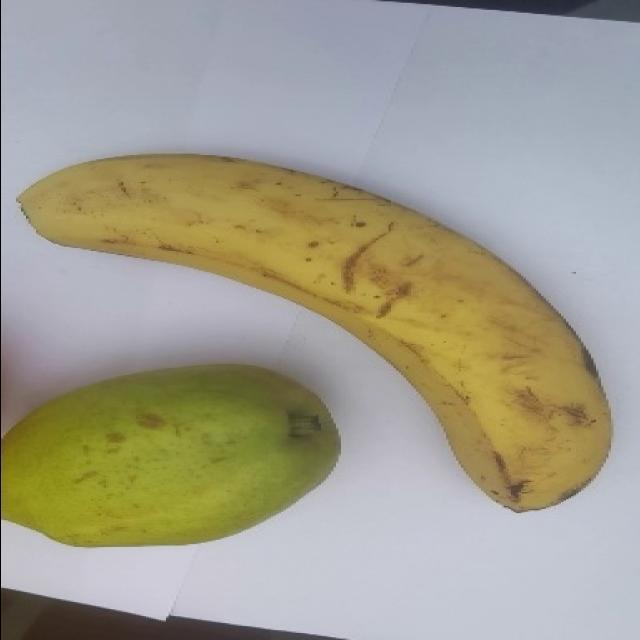Banana: (18, 156, 615, 516)
